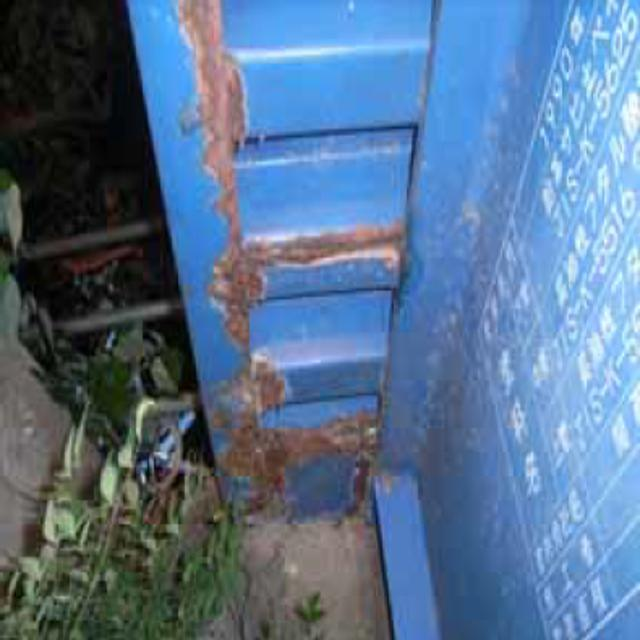corrosion: (176, 6, 386, 504)
